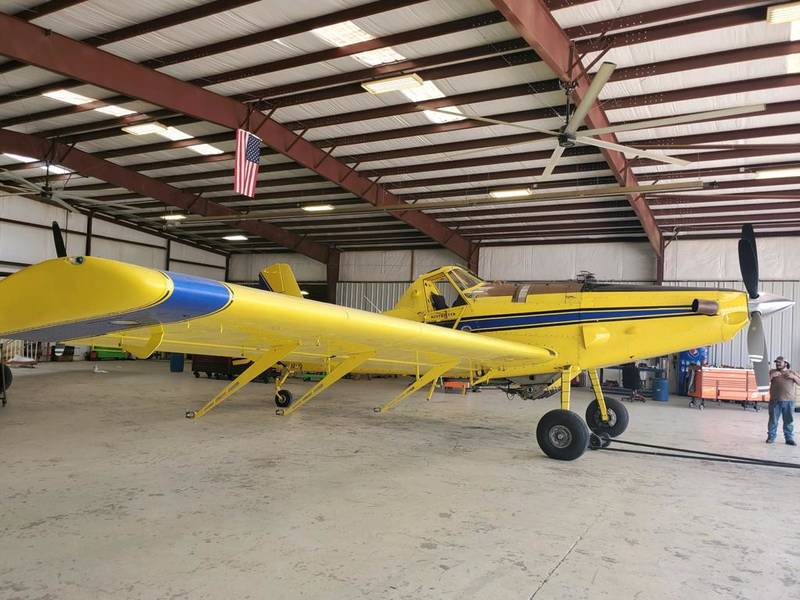Aeronef_de_service: (1, 216, 799, 471)
